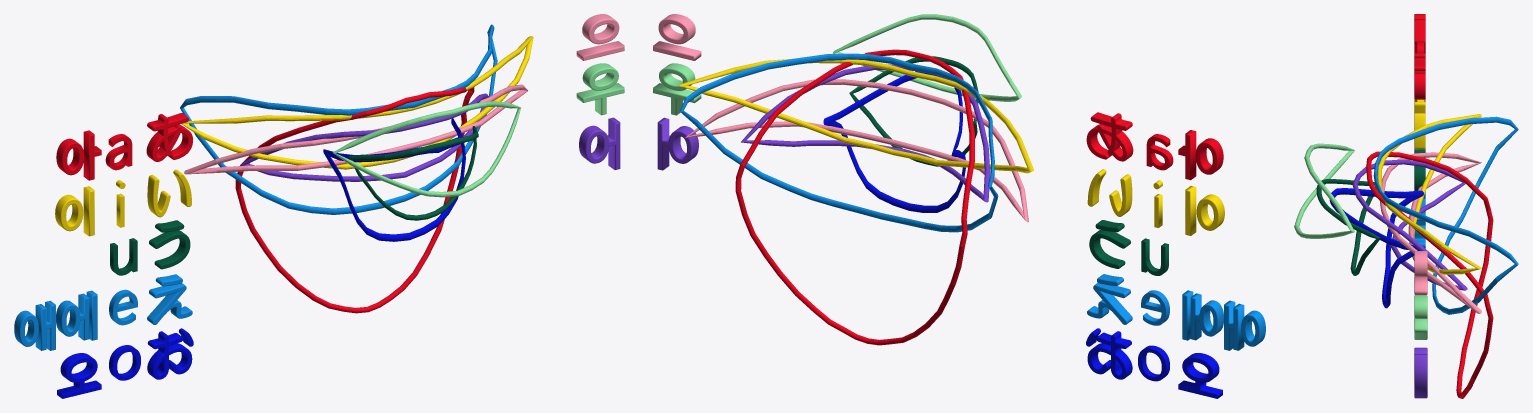
File: mouthmove-demo2-18.glb
3 renders of one model, left to right at view 1: azimuth 30°, elevation 25°; view 2: azimuth 150°, elevation 25°; view 3: azimuth 270°, elevation 25°, orthographic. The views are drawn at different scales.
Parts seen in each view (by area): view 1: line-je, line-ja, line-ji, line-je-moji-e001, line-kwu, line-ku, line-keo, line-jo, line-ju, line-ja-moji-a, line-jo-moji-o, line-keo-moji-keo (+12 smaller); view 2: line-je, line-ja, line-kwu, line-ji, line-je-moji-e001, line-keo, line-jo, line-ku, line-ja-moji-a, line-jo-moji-o, line-keo-moji-keo, line-ja-moji-a002 (+12 smaller); view 3: line-je, line-ja, line-keo, line-jo, line-ji, line-kwu, line-ku, line-ju, line-keo-moji-keo, line-ku-moji-ku, line-kwu-moji-kwu, line-ja-moji-a (+4 smaller).
Part boxes in pixels (x1=…): line-je: x1=180, y1=24, x2=497, y2=214; line-ja: x1=235, y1=87, x2=474, y2=313; line-ji: x1=181, y1=36, x2=533, y2=169; line-je-moji-e001: x1=14, y1=290, x2=97, y2=350; line-kwu: x1=184, y1=84, x2=527, y2=174; line-ku: x1=332, y1=101, x2=521, y2=197; line-keo: x1=240, y1=93, x2=488, y2=181; line-jo: x1=323, y1=118, x2=465, y2=241; line-ju: x1=349, y1=126, x2=478, y2=220; line-ja-moji-a: x1=146, y1=113, x2=192, y2=161; line-jo-moji-o: x1=147, y1=328, x2=193, y2=379; line-keo-moji-keo: x1=579, y1=117, x2=620, y2=169; line-je: x1=680, y1=53, x2=998, y2=232; line-ja: x1=735, y1=49, x2=974, y2=345; line-kwu: x1=684, y1=79, x2=1028, y2=222; line-ji: x1=679, y1=58, x2=1033, y2=173; line-je-moji-e001: x1=1182, y1=290, x2=1265, y2=350; line-keo: x1=741, y1=64, x2=990, y2=202; line-jo: x1=823, y1=71, x2=965, y2=212; line-ku: x1=832, y1=14, x2=1021, y2=101; line-ja-moji-a: x1=1086, y1=112, x2=1133, y2=161; line-jo-moji-o: x1=1086, y1=328, x2=1132, y2=379; line-keo-moji-keo: x1=657, y1=117, x2=698, y2=170; line-ja-moji-a002: x1=1178, y1=130, x2=1223, y2=180; line-je: x1=1373, y1=116, x2=1518, y2=314; line-ja: x1=1366, y1=151, x2=1493, y2=398; line-keo: x1=1352, y1=159, x2=1467, y2=290; line-jo: x1=1329, y1=188, x2=1423, y2=308; line-ji: x1=1377, y1=114, x2=1481, y2=274; line-kwu: x1=1380, y1=152, x2=1481, y2=313; line-ku: x1=1294, y1=143, x2=1354, y2=238; line-ju: x1=1316, y1=179, x2=1380, y2=275; line-keo-moji-keo: x1=1414, y1=347, x2=1427, y2=398; line-ku-moji-ku: x1=1414, y1=295, x2=1427, y2=339; line-kwu-moji-kwu: x1=1414, y1=251, x2=1427, y2=294; line-ja-moji-a: x1=1414, y1=53, x2=1425, y2=99.
Size of the model in its own units: 2.27 by 0.9597 by 0.8113.
